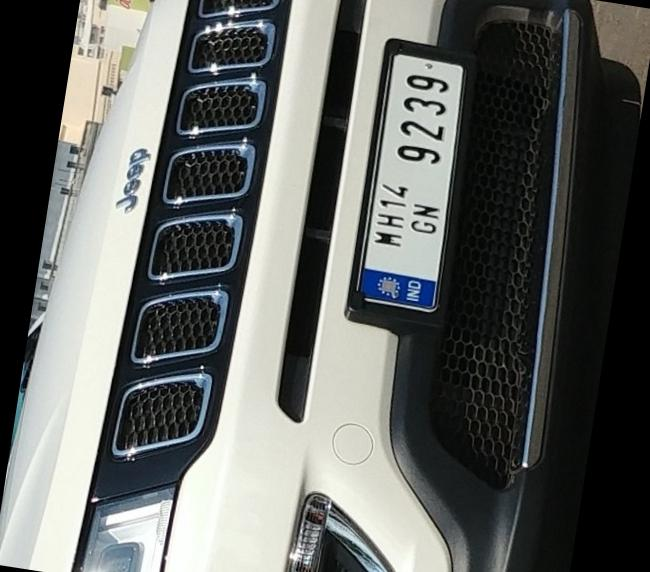plate: (334, 32, 477, 340)
